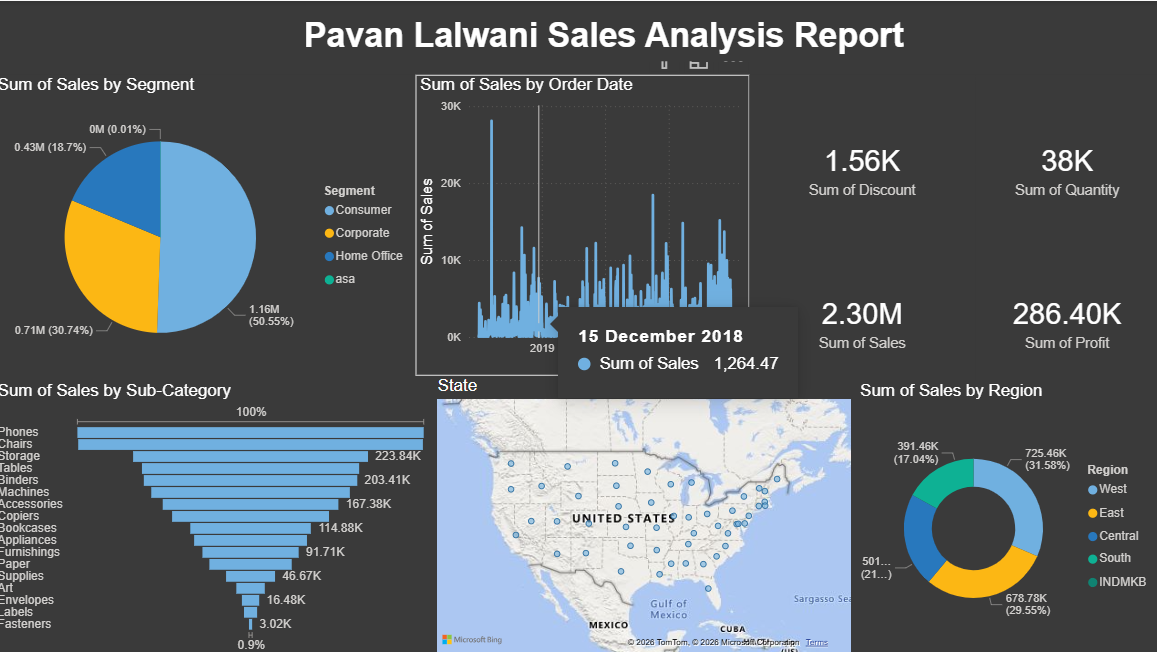

What the dashboard file says about the page in this screenshot:
{"tool":"powerbi","page":{"name":"Page 1","canvas":[1280,720],"ordinal":0},"visuals":[{"type":"donutChart","fields":{"Category":["Sheet1.Region"],"Y":["Sheet1.Sales"]},"box":[946.8,417.2,333.4,303.3],"z":0},{"type":"funnel","fields":{"Category":["Sheet1.Sub-Category"],"Y":["Sheet1.Sales"]},"box":[0,417.2,483,303.3],"z":1000},{"type":"map","fields":{"Category":["Sheet1.State"]},"box":[483,411.7,463.8,308.7],"z":2000},{"type":"pieChart","fields":{"Category":["Sheet1.Segment"],"Y":["Sheet1.Sales"]},"box":[0,81,463.8,336.2],"z":3000},{"type":"lineChart","fields":{"Category":["Sheet1.Order Date"],"Y":["Sheet1.Sales"]},"box":[463.8,81,366.4,330.7],"z":4000},{"type":"card","fields":{"Values":["Sheet1.Sales"]},"box":[830.2,286.8,248.4,130.4],"z":5000},{"type":"card","fields":{"Values":["Sheet1.Profit"]},"box":[1078.6,286.8,201.7,130.4],"z":6000},{"type":"card","fields":{"Values":["Sheet1.Discount"]},"box":[830.2,81,248.4,205.8],"z":7000},{"type":"card","fields":{"Values":["Sheet1.Quantity"]},"box":[1078.6,81,201.7,205.8],"z":8000},{"type":"textbox","box":[336.2,11,881,54.9],"z":8001}]}

Visuals, with their boxes in screenshot pixels (x1, y1, x2, y2), scaled from the page's 1280x720 canvas onto the 1157x652 screenshot:
donutChart - Sheet1.Region x Sheet1.Sales: (856, 378, 1156, 651)
funnel - Sheet1.Sub-Category x Sheet1.Sales: (0, 378, 437, 651)
map - Sheet1.State: (437, 373, 856, 651)
pieChart - Sheet1.Segment x Sheet1.Sales: (0, 73, 419, 378)
lineChart - Sheet1.Order Date x Sheet1.Sales: (419, 73, 750, 373)
card - Sheet1.Sales: (750, 260, 975, 378)
card - Sheet1.Profit: (975, 260, 1156, 378)
card - Sheet1.Discount: (750, 73, 975, 260)
card - Sheet1.Quantity: (975, 73, 1156, 260)
textbox: (304, 10, 1100, 60)
